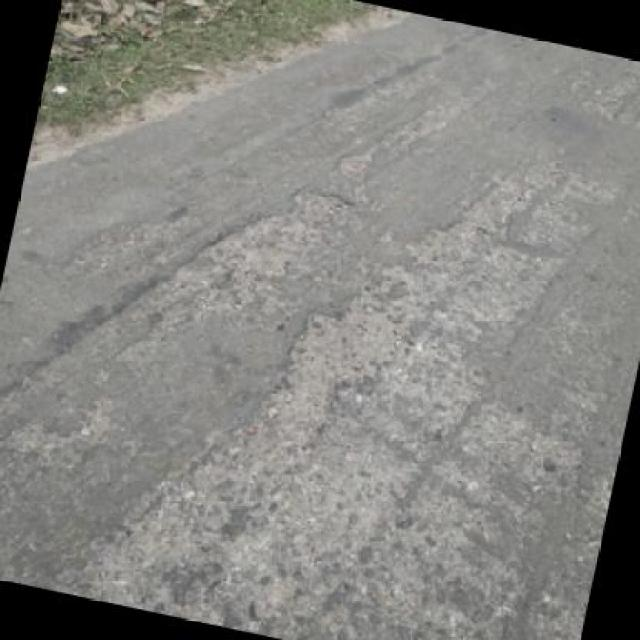pothole1: (176, 160, 362, 322), (260, 279, 414, 447)
